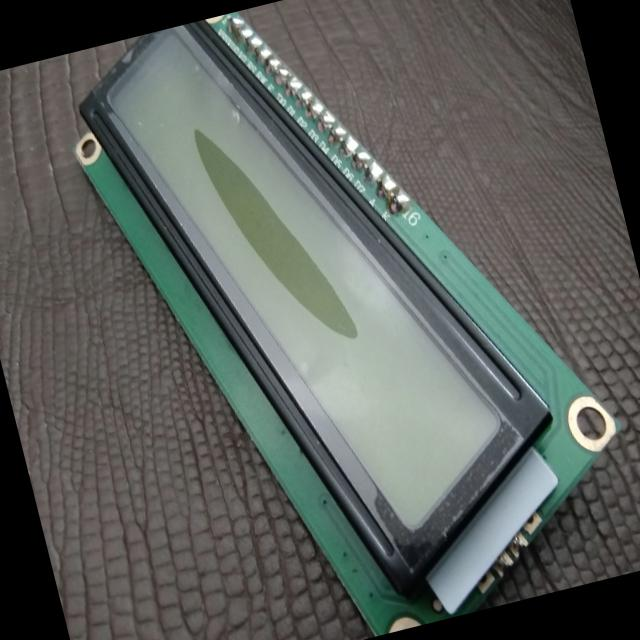lcd: (23, 0, 640, 640)
